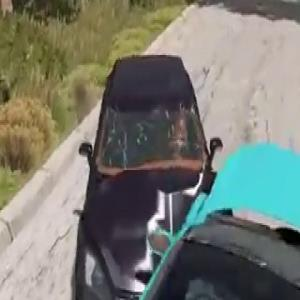low_impact: (40, 33, 300, 300)
